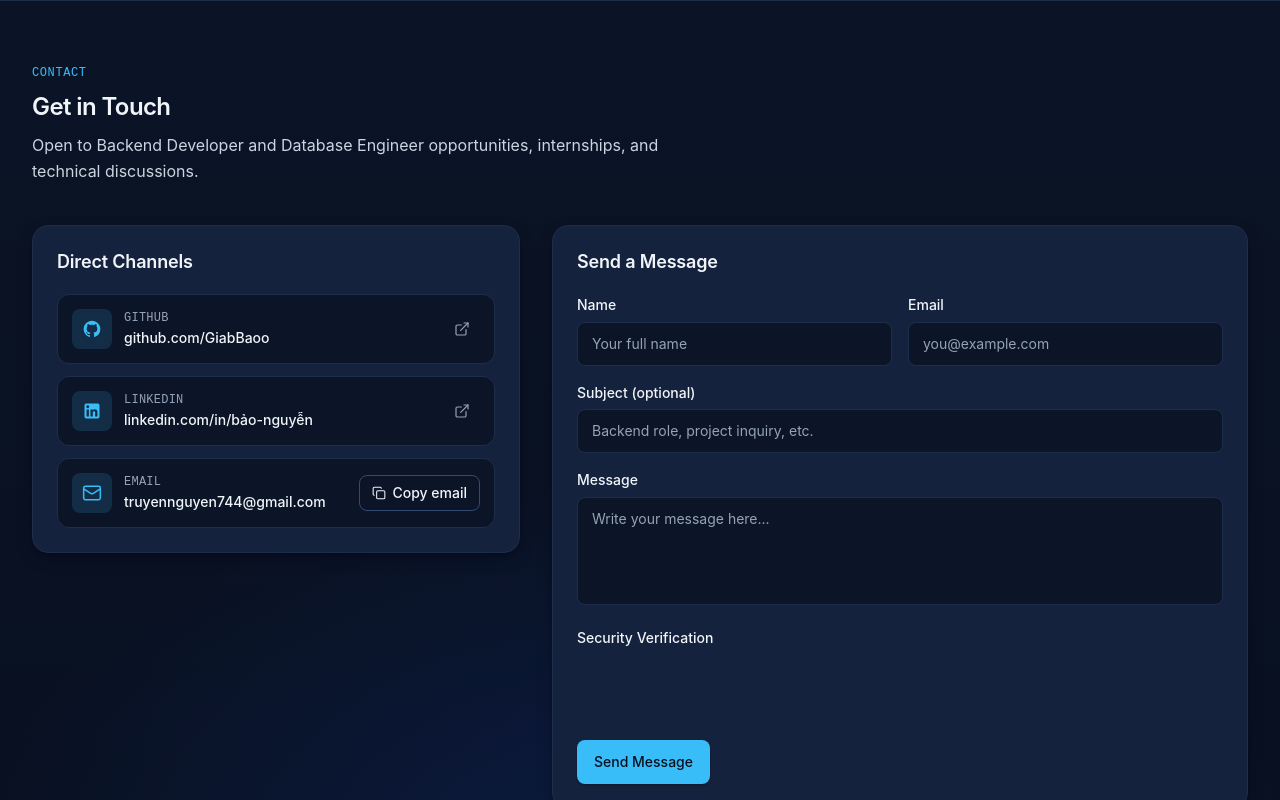
Test: ContactSection & contact-api integration › submits successfully (201), sends website: '' honeypot, resets form and Turnstile widget
Expected: the form named "website" is shown, top-left (577, 294), bottom-right (1223, 784)
Type "Nguyen Van A" into the field labelled "Name" at (734, 343), box top-left (577, 322), bottom-right (892, 365)
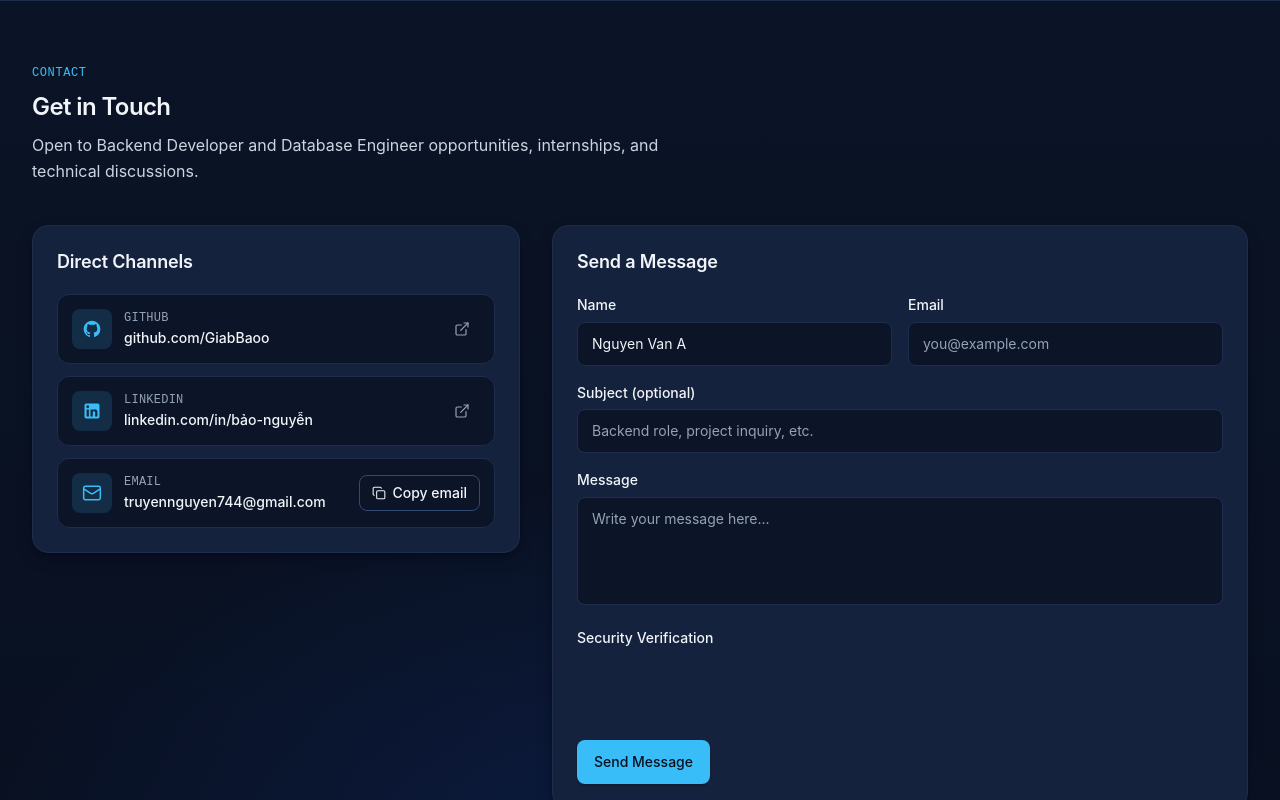
Type "user@example.com" into the field labelled "Email" at (1066, 343), box top-left (908, 322), bottom-right (1223, 365)
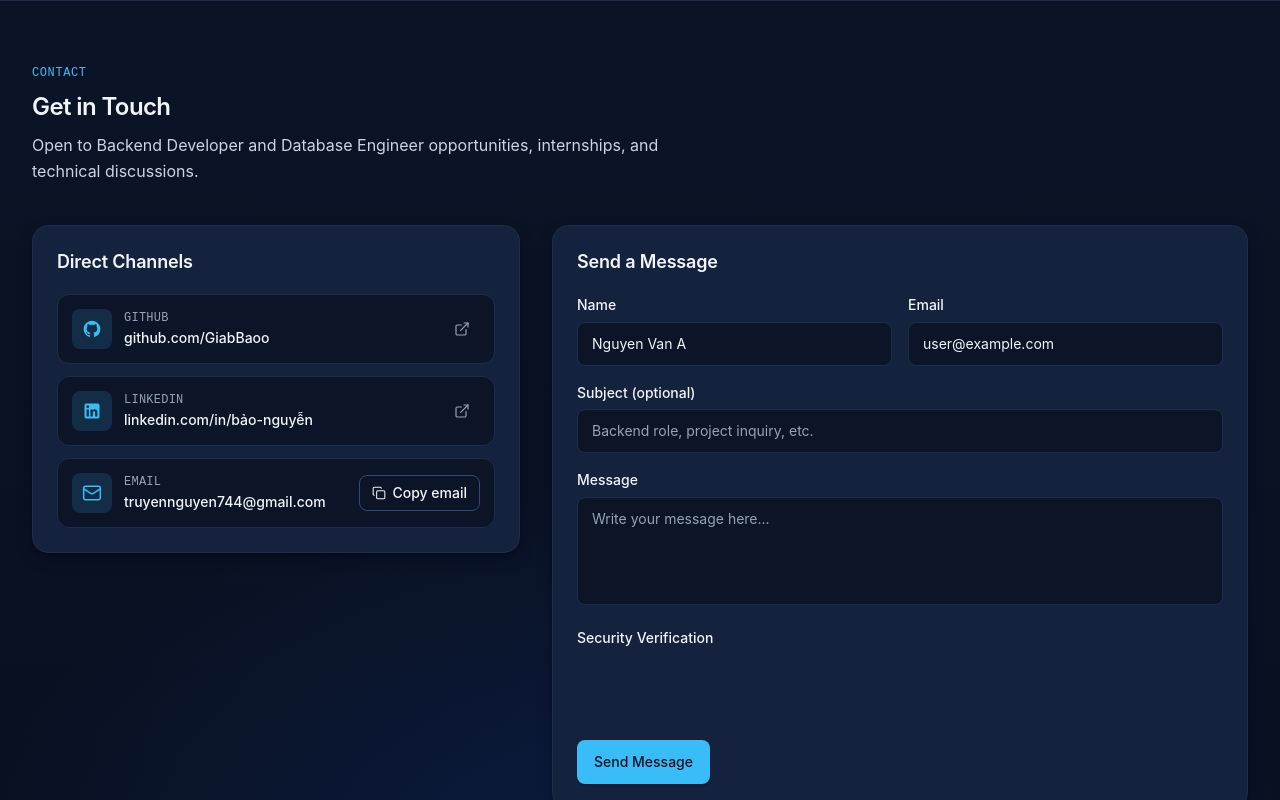
Type "Backend opportunity" into the field labelled "Subject (optional)" at (900, 431), box top-left (577, 409), bottom-right (1223, 453)
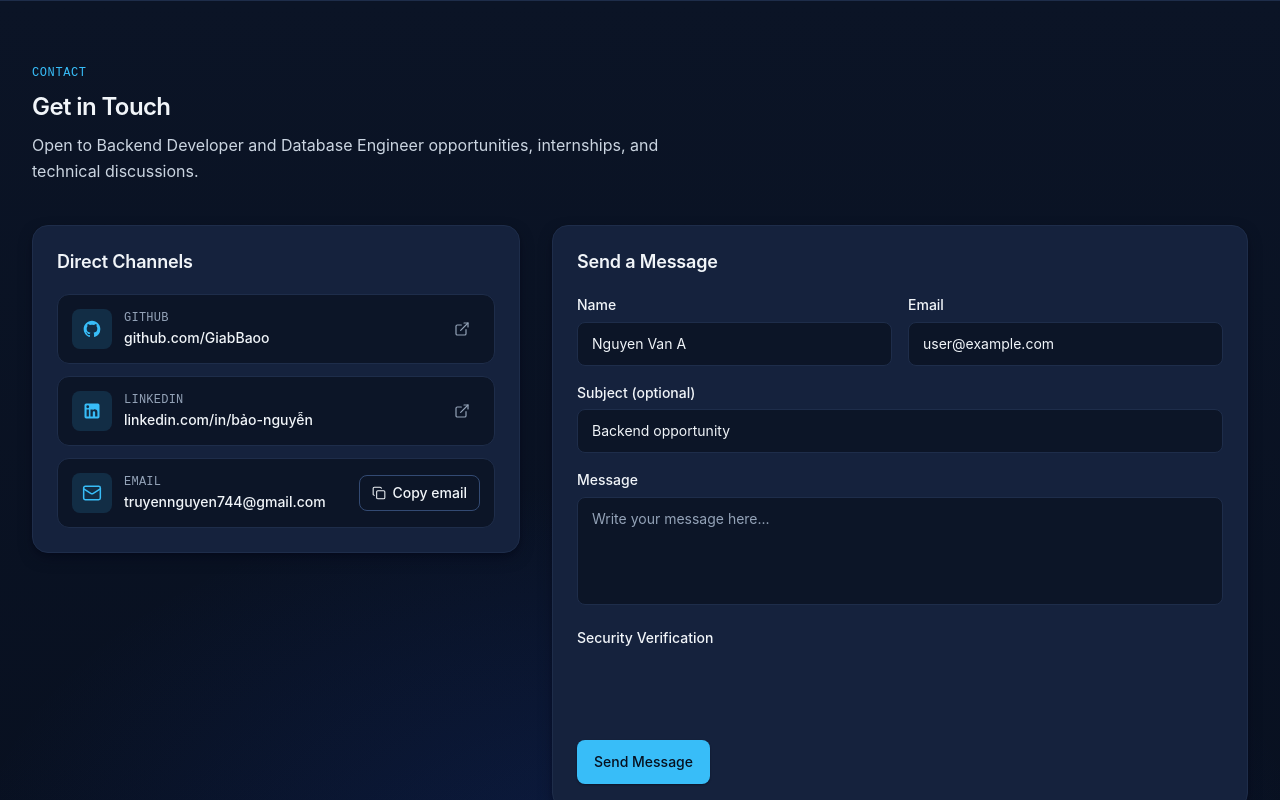
Type "Hello Gia Bao, I would like to discuss a backend engineering role." into the text box labelled "Message" at (900, 551), box top-left (577, 496), bottom-right (1223, 605)
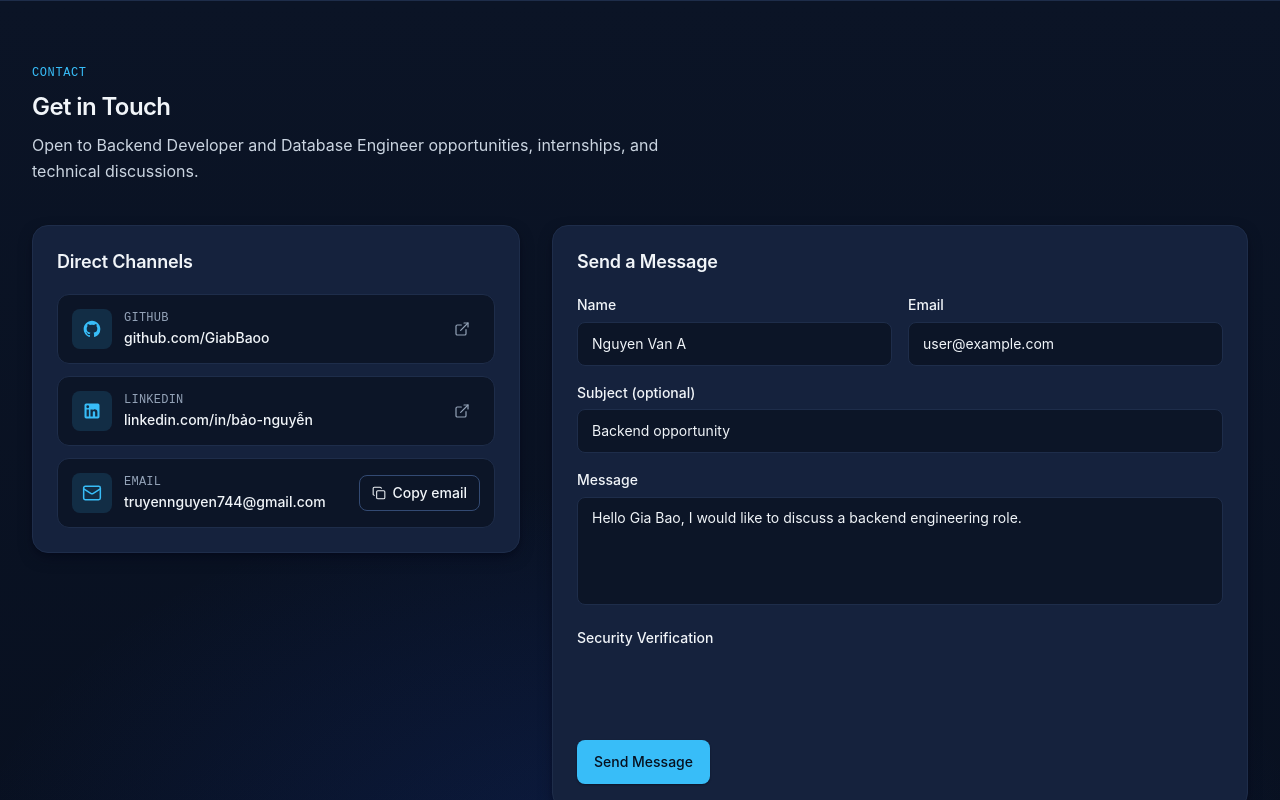
Click the button "Send Message" at (644, 762), box top-left (577, 740), bottom-right (710, 784)
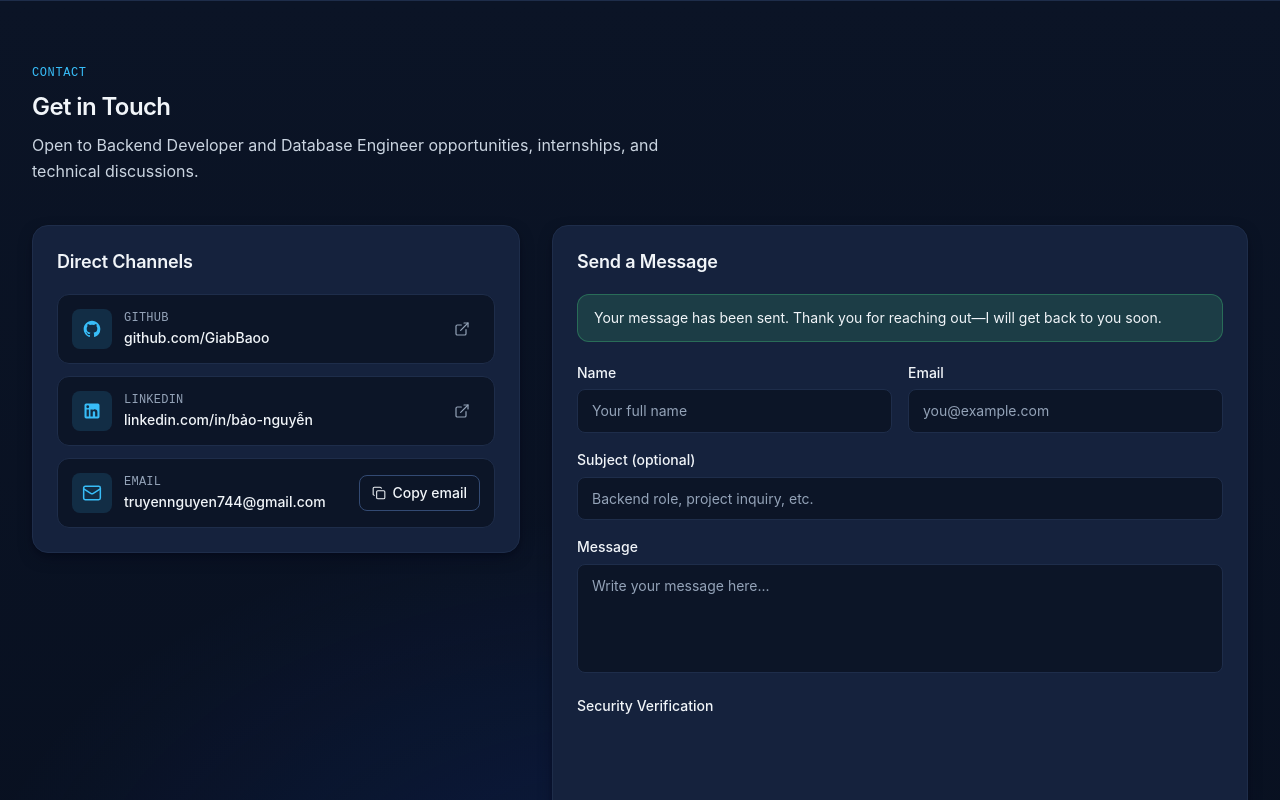
Result: the text "Your message has been sent. Thank you for reaching out" is shown at top-left (594, 309), bottom-right (1162, 326)
Result: the field labelled "Name" is empty at top-left (577, 389), bottom-right (892, 433)
Result: the field labelled "Email" is empty at top-left (908, 389), bottom-right (1223, 433)
